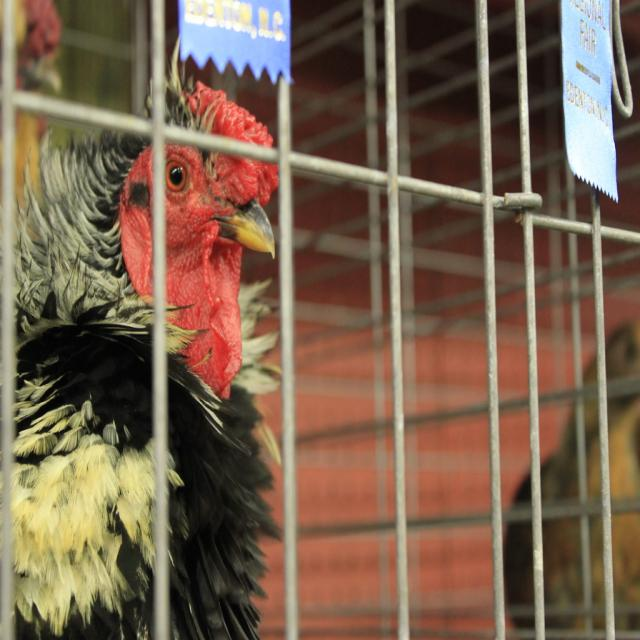Chicken: (19, 96, 280, 604)
